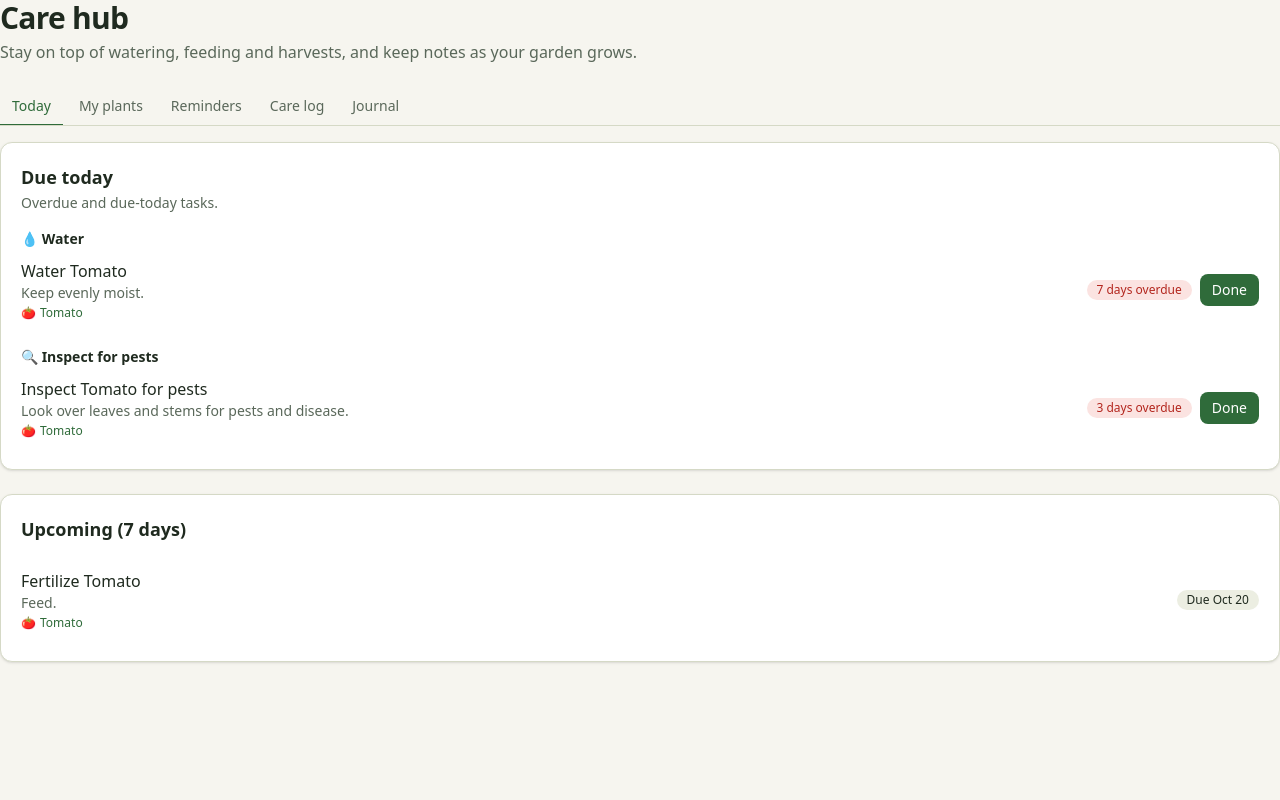
Scenario: CarePage › Journal › creates entries, newest first
Click the tab "Journal": [376, 107] box [340,88,411,126]
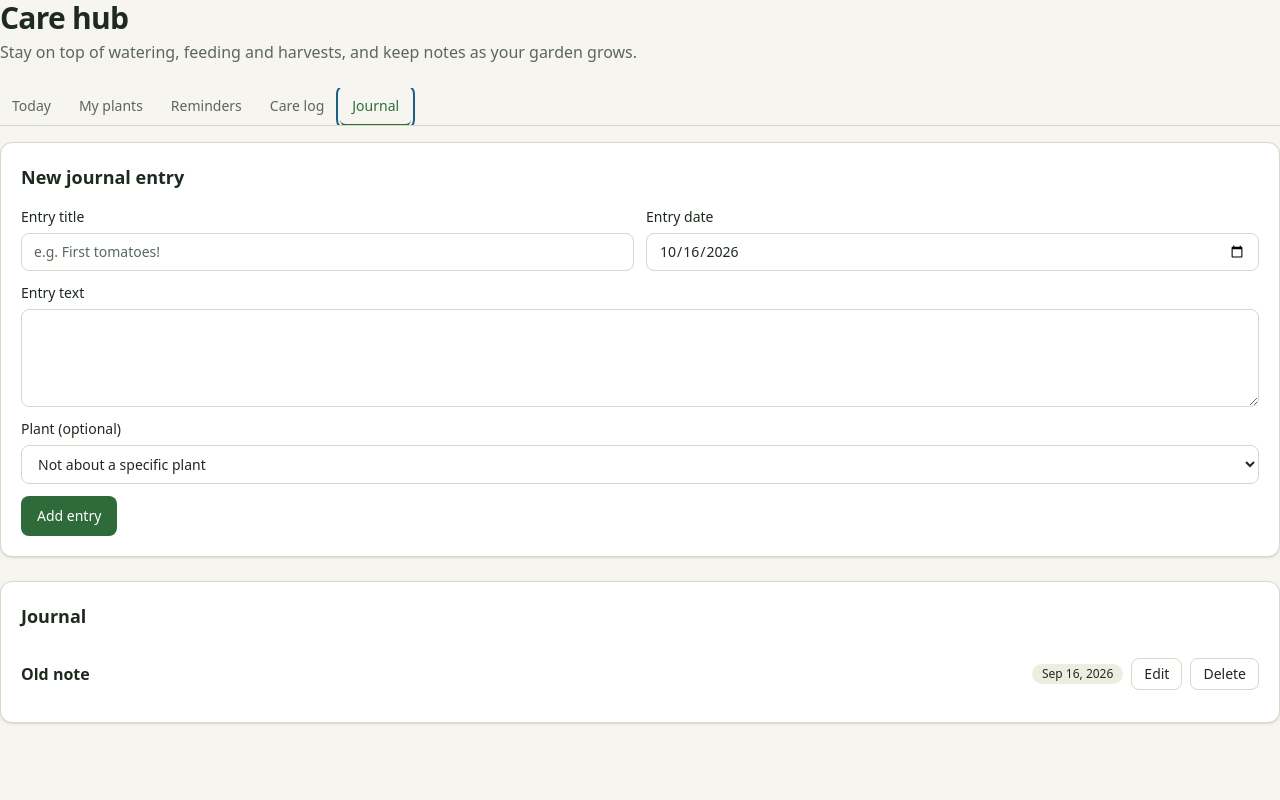
In the field labelled "Entry title": [328, 252] box [21,233,634,271], type "First sprouts"
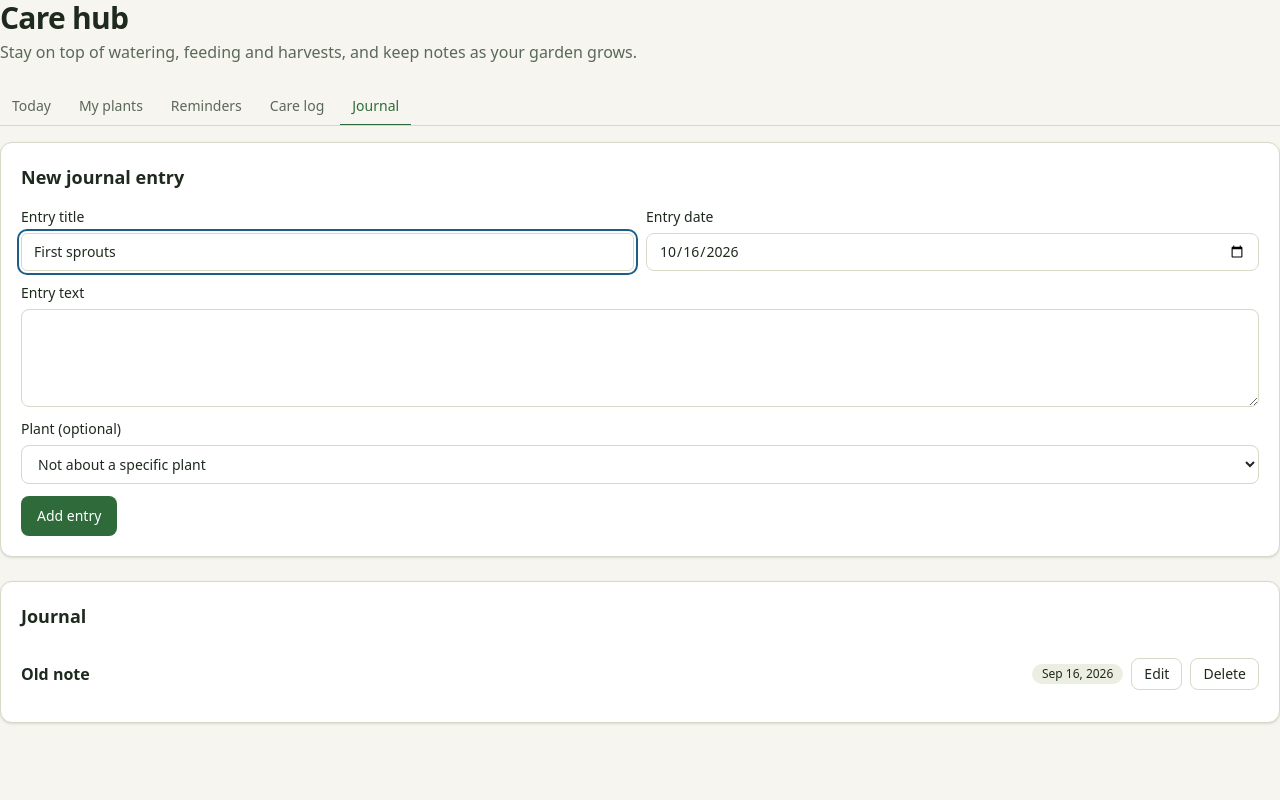
In the text box labelled "Entry text": [640, 358] box [21,309,1259,407], type "Tomatoes are up."
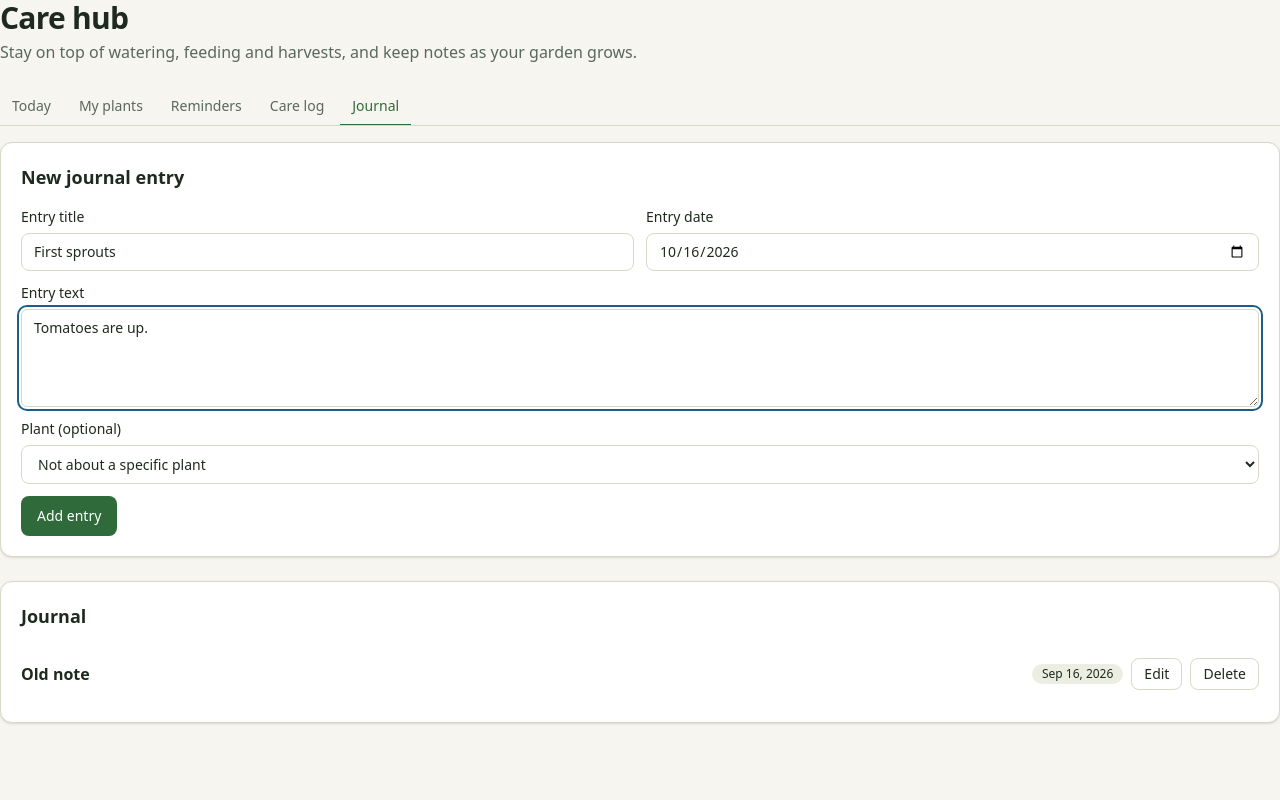
Click the button "Add entry": [69, 516] box [21,496,117,536]
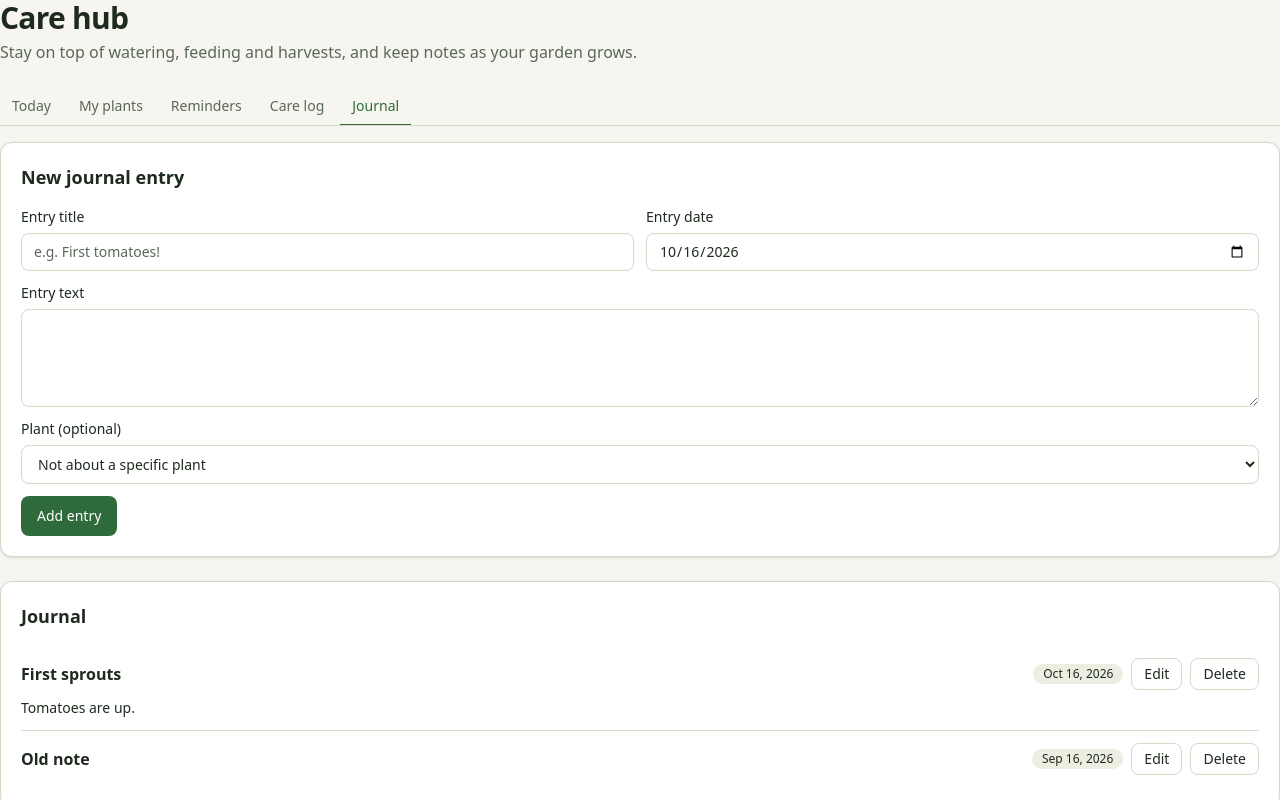
Expected: the list item "Old note Sep 16, 2026 Edit Delete" is shown, [21,743,1259,775]
Expected: the list item "First sprouts Oct 16, 2026 Edit Delete Tomatoes are up." is shown, [21,646,1259,731]
